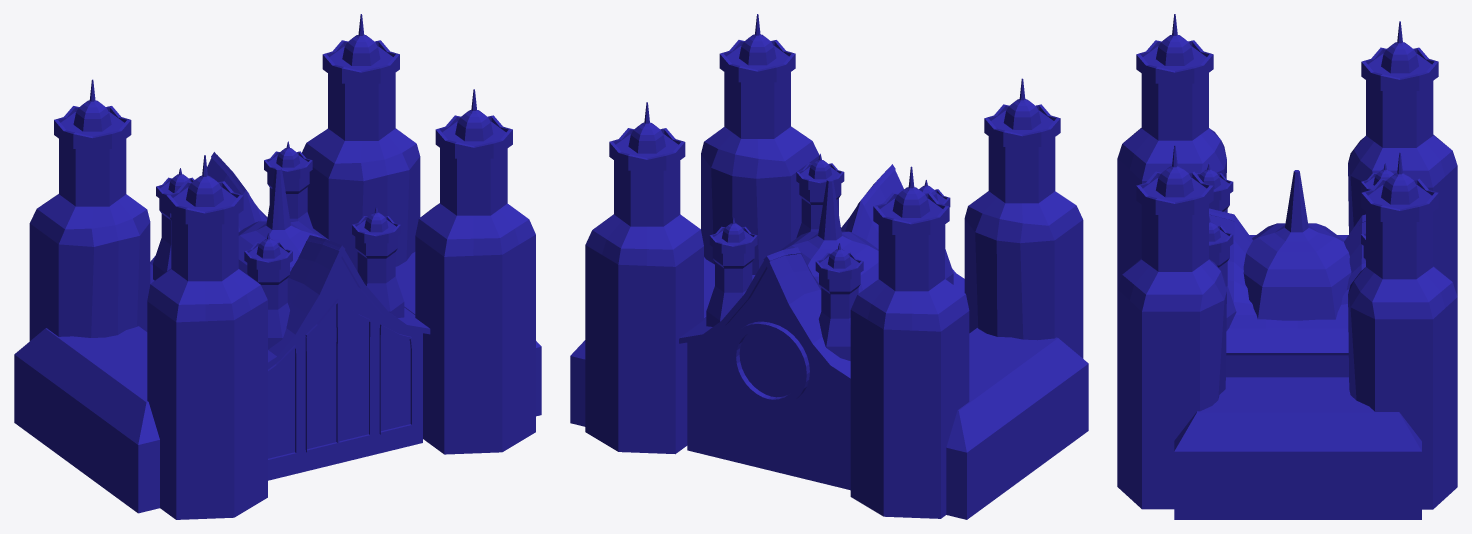
File: CityThree.fbx
3 renders of one model, left to right at view 1: azimuth 30°, elevation 25°; view 2: azimuth 150°, elevation 25°; view 3: azimuth 270°, elevation 25°, orthographic.
Visible parts, largest first — view 1: City; view 2: City; view 3: City.
Part boxes in pixels (x1,y1,x2,y2): City: (14,14,541,519); City: (570,14,1088,519); City: (1117,14,1457,519).
Size of the model in its own units: 44.34 by 36.04 by 32.38.
